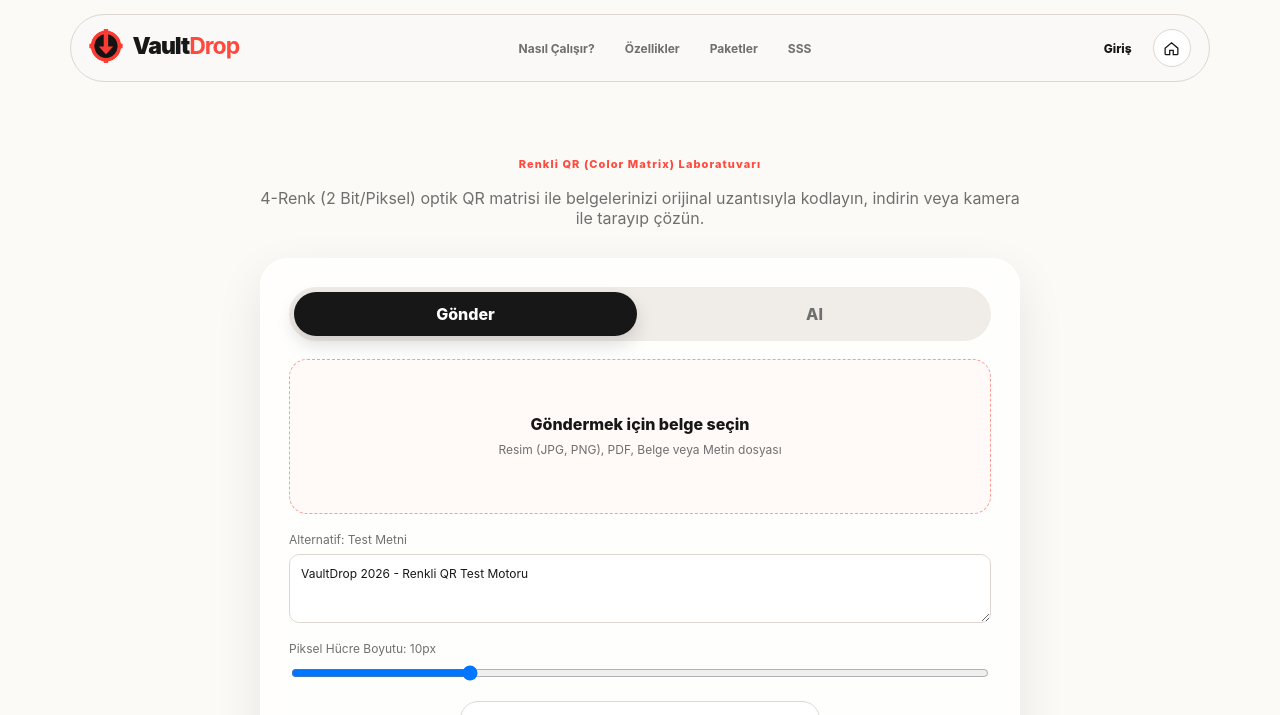
Test case: ColorQrLabPage UI › yalnız hash ve CQF2 paketi doğrulandıktan sonra indirme bağlantısını gösterir
Click the button "Al": (814, 314) [643, 292, 986, 336]
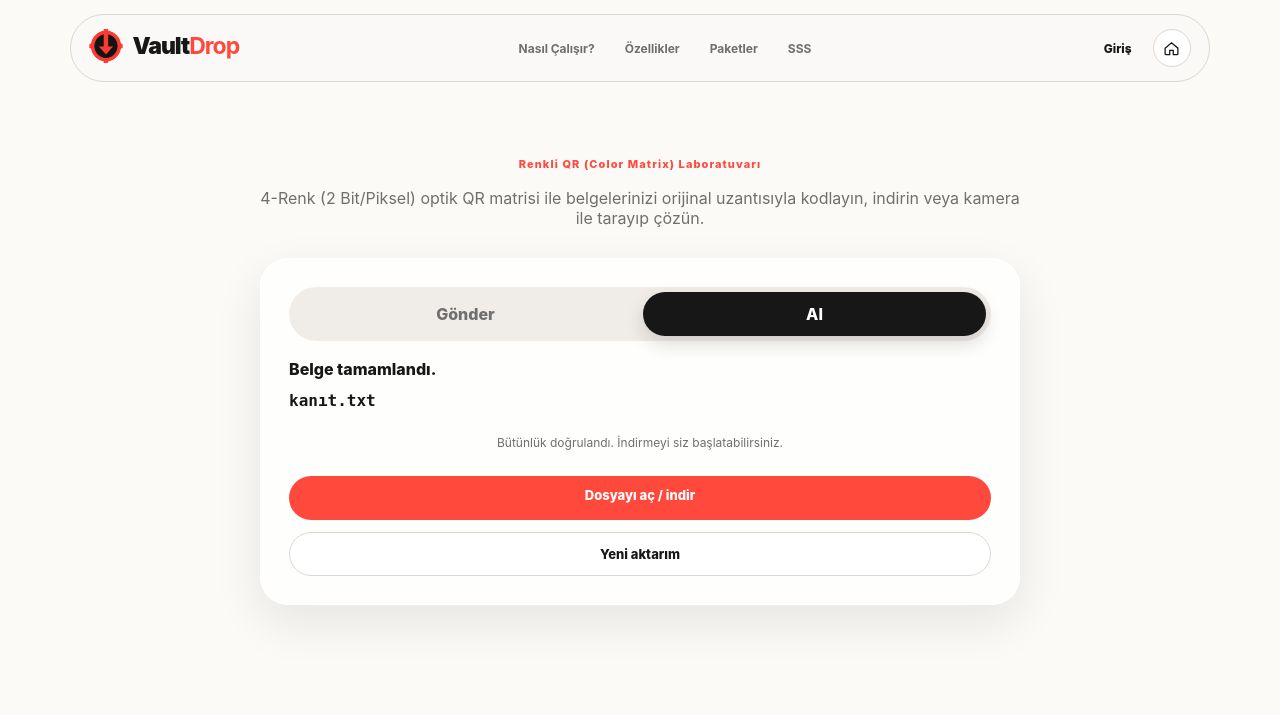
Check: the text "Belge tamamlandı." is shown, box [289, 359, 436, 379]
